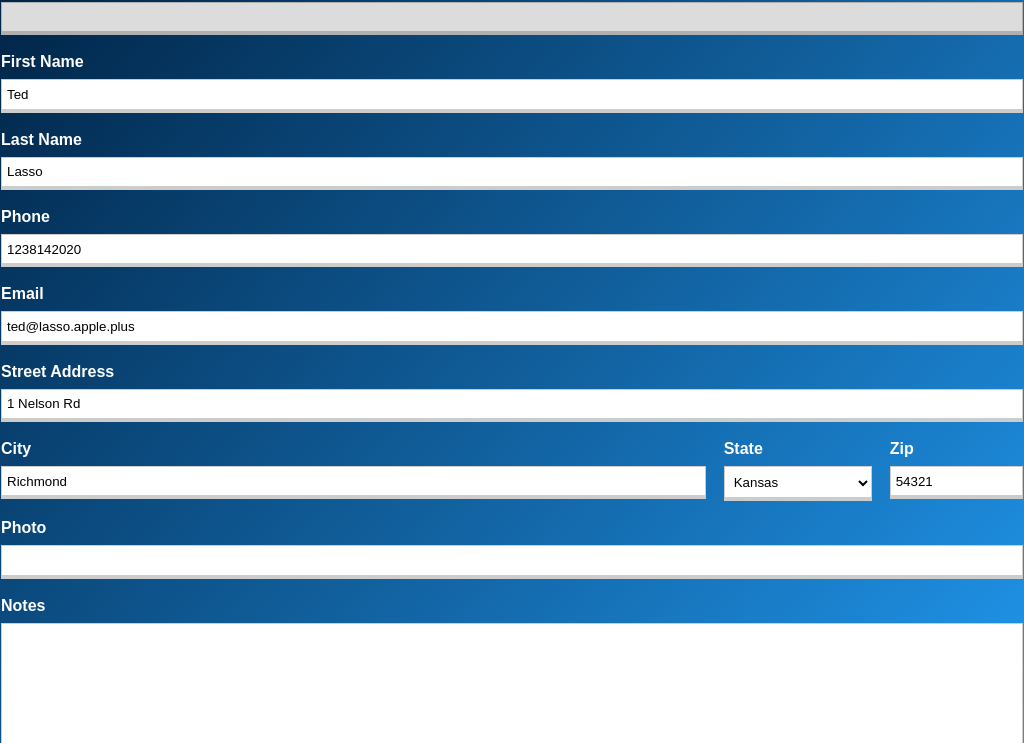
Test: ProfileViewFull › check enable/disable submit button
Replace the text in the field labelled "First Name" with "testing change" at (512, 96), box top-left (1, 79), bottom-right (1023, 113)
(page scrolled)
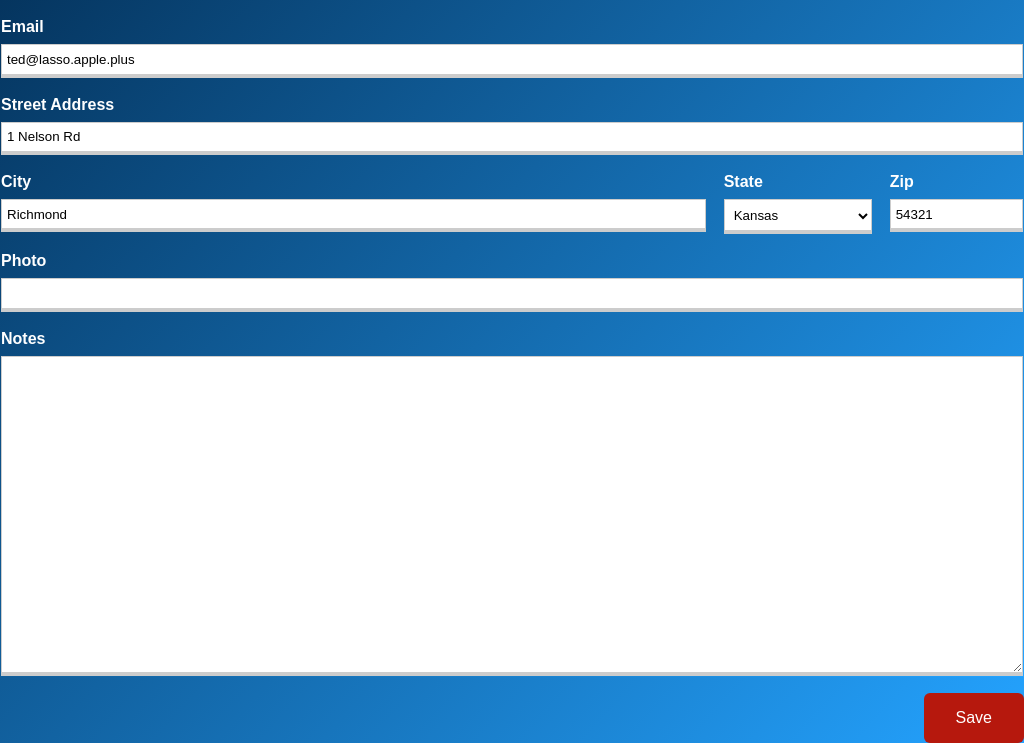
Result: the button "Save" is enabled at top-left (924, 692), bottom-right (1023, 742)
